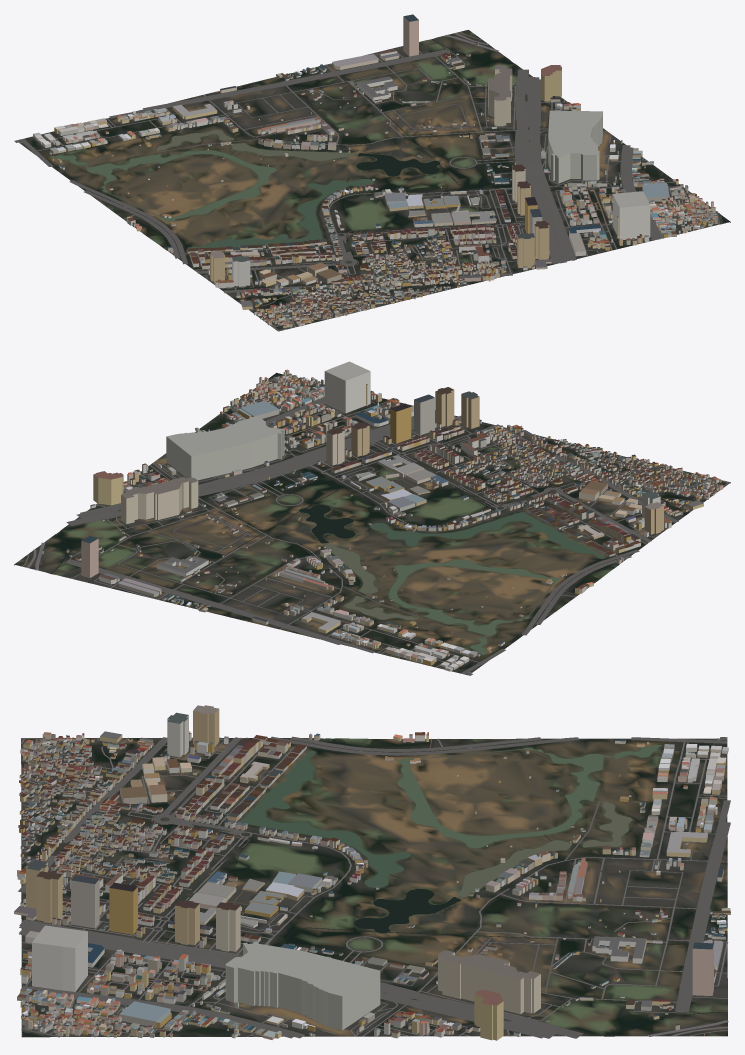
3 renders of one model, top to bottom at view 1: azimuth 30°, elevation 25°; view 2: azimuth 150°, elevation 25°; view 3: azimuth 270°, elevation 25°, orthographic. The views are drawn at different scales.
Visible parts, largest first — view 1: ground, buildings, roads, water; view 2: ground, buildings, roads, water; view 3: ground, buildings, roads, water.
Boxes of the visible parts, bbox=[...] form: ground: bbox=[19, 30, 730, 331]; buildings: bbox=[33, 14, 717, 328]; roads: bbox=[14, 31, 719, 331]; water: bbox=[50, 39, 729, 249]; ground: bbox=[14, 375, 730, 674]; buildings: bbox=[42, 361, 723, 671]; roads: bbox=[22, 376, 730, 675]; water: bbox=[51, 373, 617, 655]; ground: bbox=[21, 737, 727, 1037]; buildings: bbox=[14, 705, 730, 1040]; roads: bbox=[18, 736, 730, 1038]; water: bbox=[22, 738, 727, 1036].
Size of the model in its own units: 1431 by 107 by 1423.
